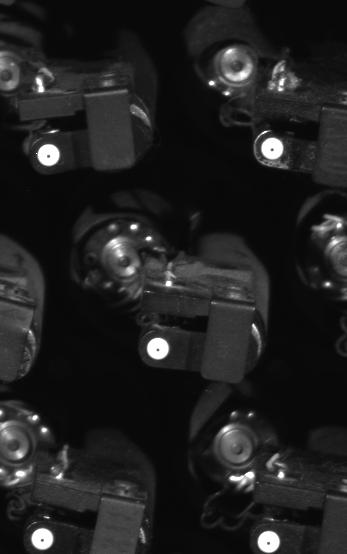fiber: (139, 331, 180, 369), (33, 137, 70, 177), (253, 134, 290, 167), (251, 526, 287, 554), (28, 522, 58, 554)
